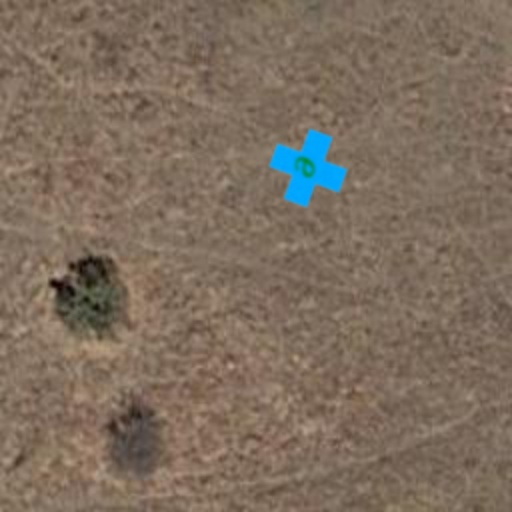cross: (258, 118, 358, 218)
